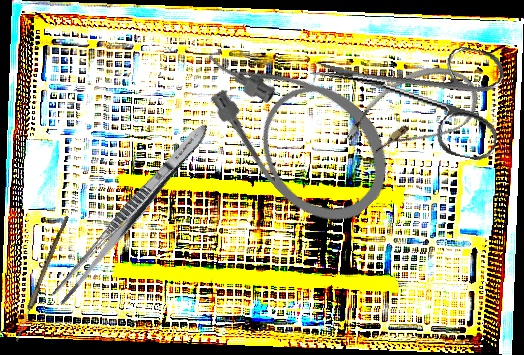Cannula: (180, 5, 412, 244), (335, 48, 489, 182)
Dressing Forceps: (48, 117, 214, 310)
Iris Scissors: (299, 16, 515, 164)
Surgical Spoon: (14, 214, 69, 343)
